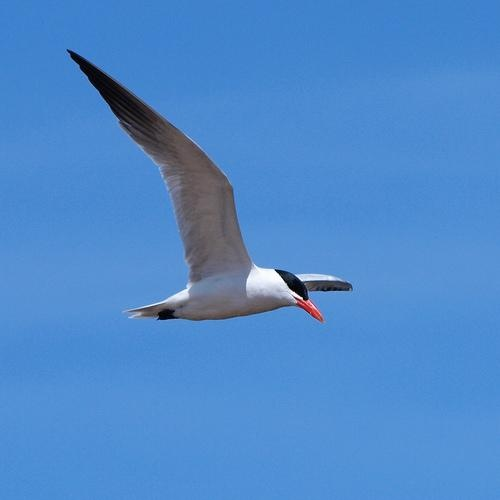bird: (67, 43, 357, 325)
